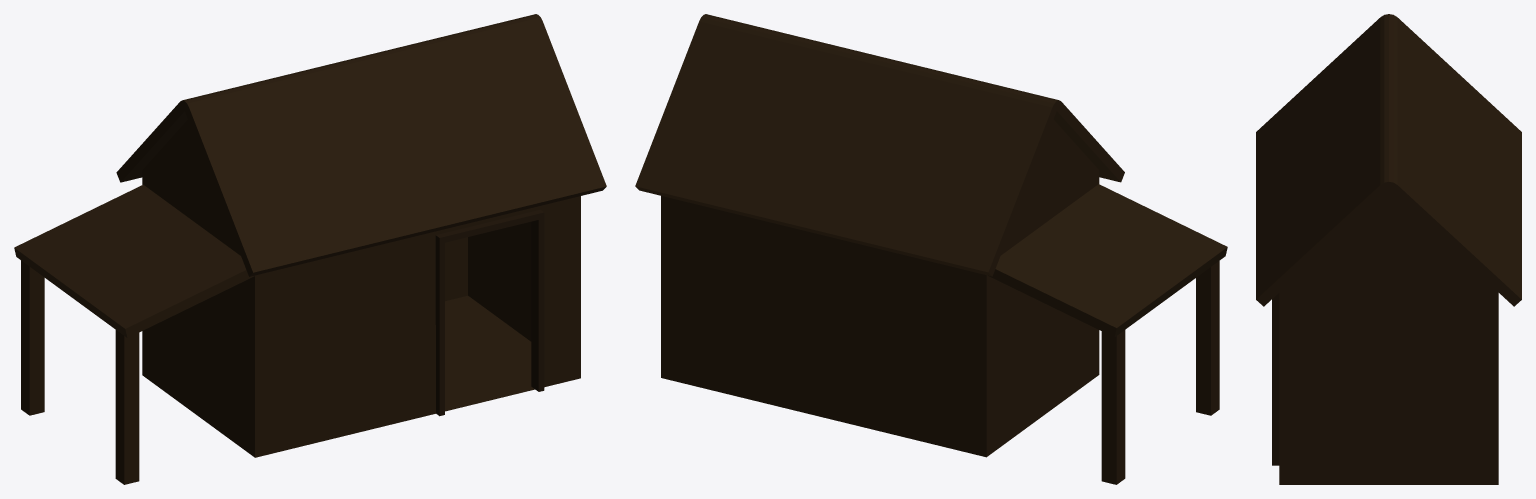
File: penhut.glb
3 views of the same model, side by side, from view 1: azimuth 30°, elevation 25°; view 2: azimuth 150°, elevation 25°; view 3: azimuth 270°, elevation 25° (orthographic). The views are drawn at different scales.
Visible parts, largest first — view 1: Hut, Roof.001, Cube.001, Cube.009, Cube.016; view 2: Hut, Roof.001, Cube.001, Cube.016, Cube.009; view 3: Hut, Roof.001.
Boxes of the visible parts, x1,y1,x2,y2 form: Hut: (142, 120, 580, 457); Roof.001: (116, 14, 606, 276); Cube.001: (14, 184, 254, 337); Cube.009: (115, 330, 139, 484); Cube.016: (21, 260, 44, 415); Hut: (661, 119, 1099, 457); Roof.001: (635, 14, 1124, 276); Cube.001: (988, 184, 1227, 337); Cube.016: (1101, 330, 1125, 484); Cube.009: (1196, 261, 1219, 415); Hut: (1272, 191, 1498, 484); Roof.001: (1256, 14, 1521, 306).
Size of the model in its own units: 7.19 by 4.68 by 3.63.
